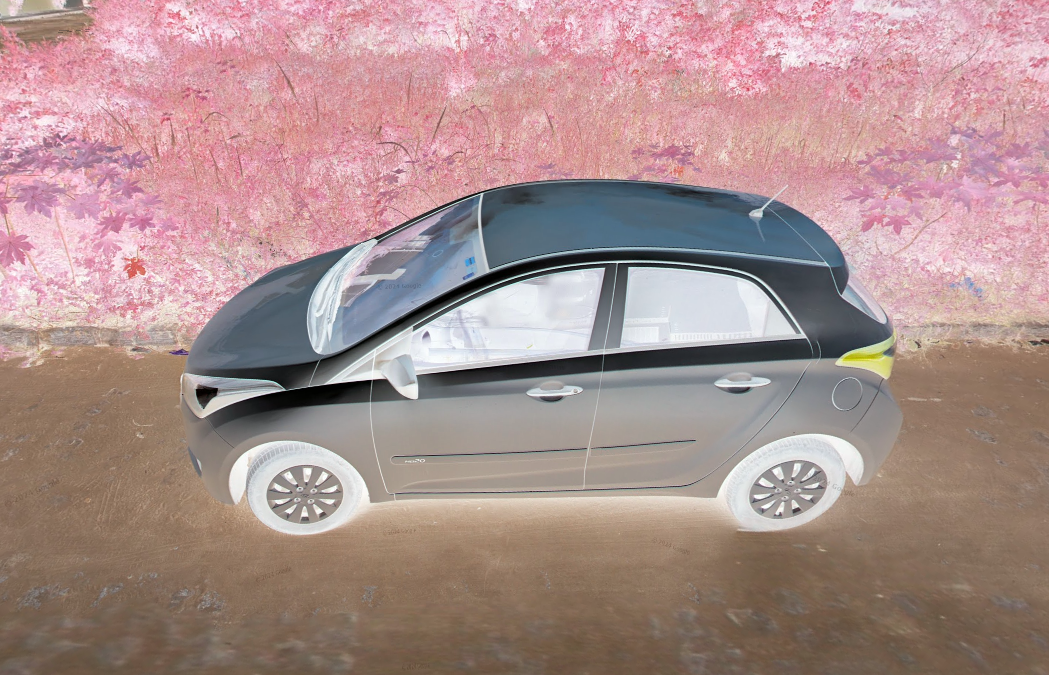car: (171, 165, 909, 556)
